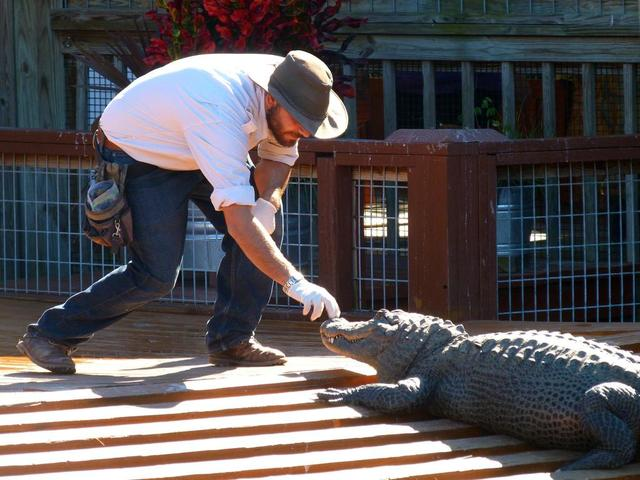crocodile: (316, 315, 640, 457)
